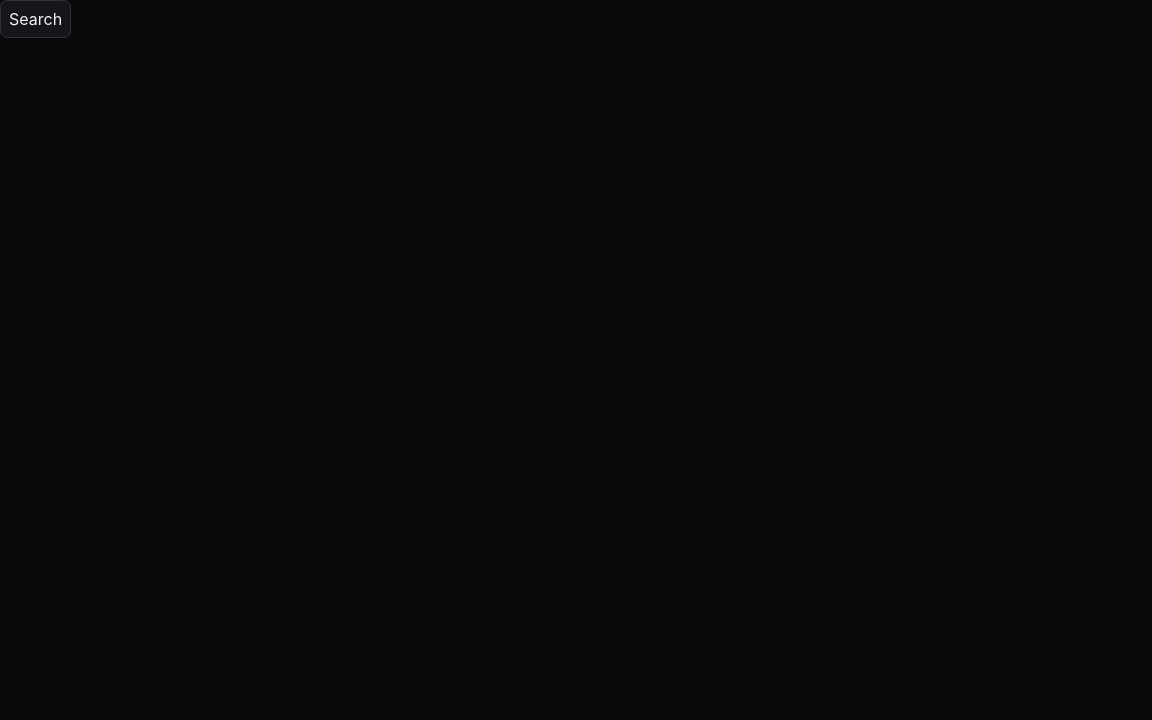
opens with Command-K and executes the keyboard-selected local result
Press k
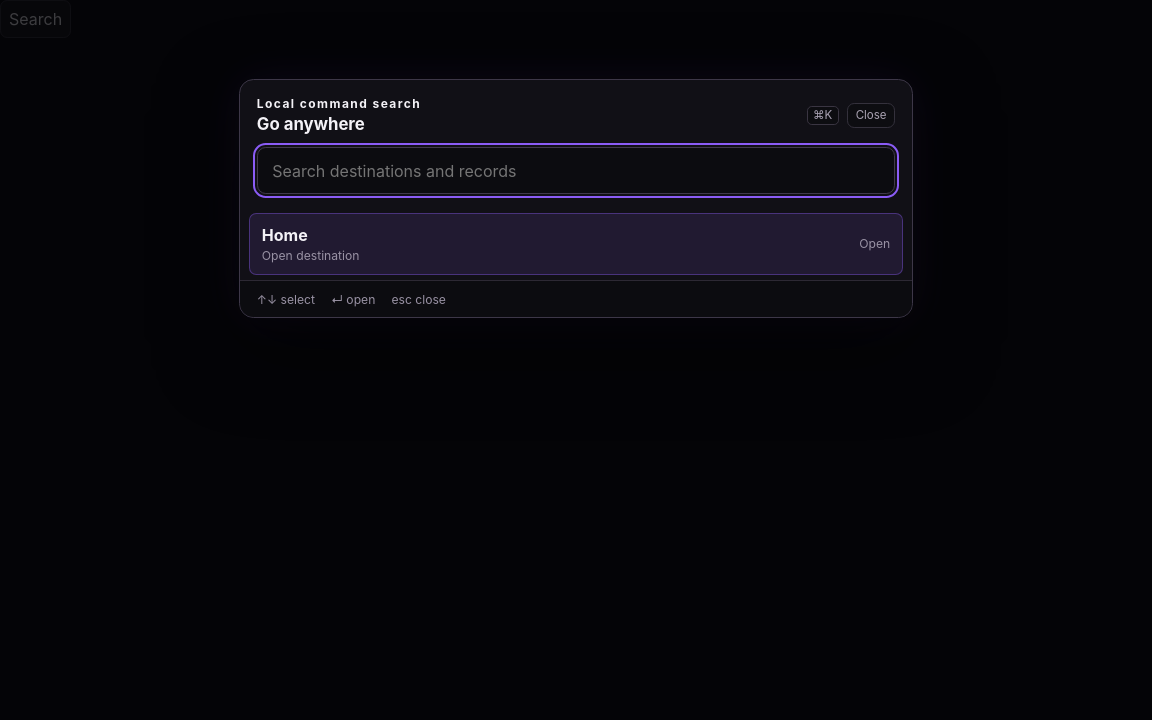
In the dropdown named "Search commands and records": (576, 171) [257,147,895,194], type "synthetic"
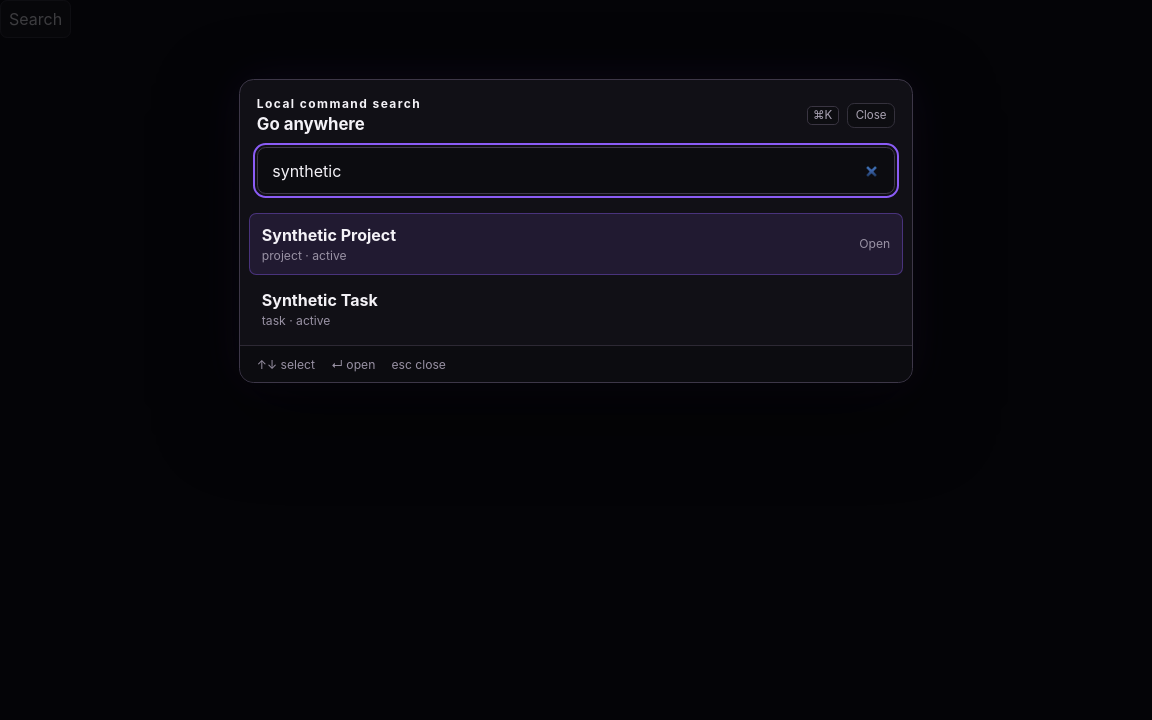
Press ArrowDown in the dropdown named "Search commands and records", box [257,147,895,194]
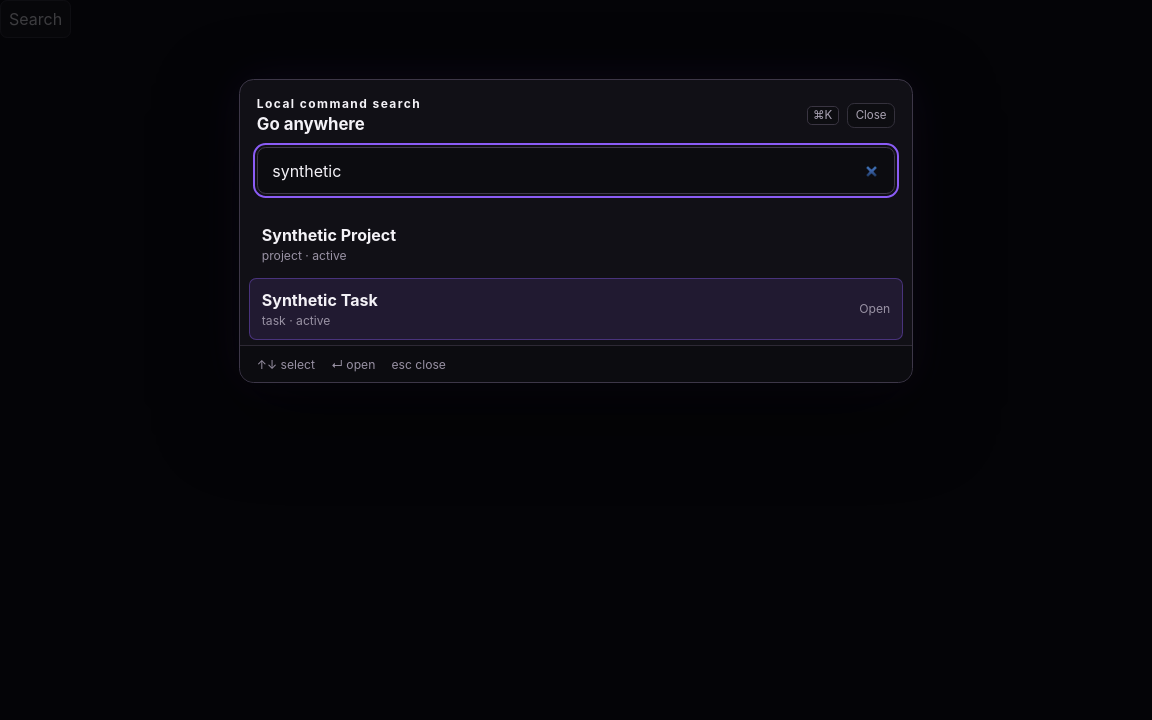
Now the option "Synthetic Task task · active Open" is selected, box [249,278,903,340]
Press Enter in the dropdown named "Search commands and records", box [257,147,895,194]
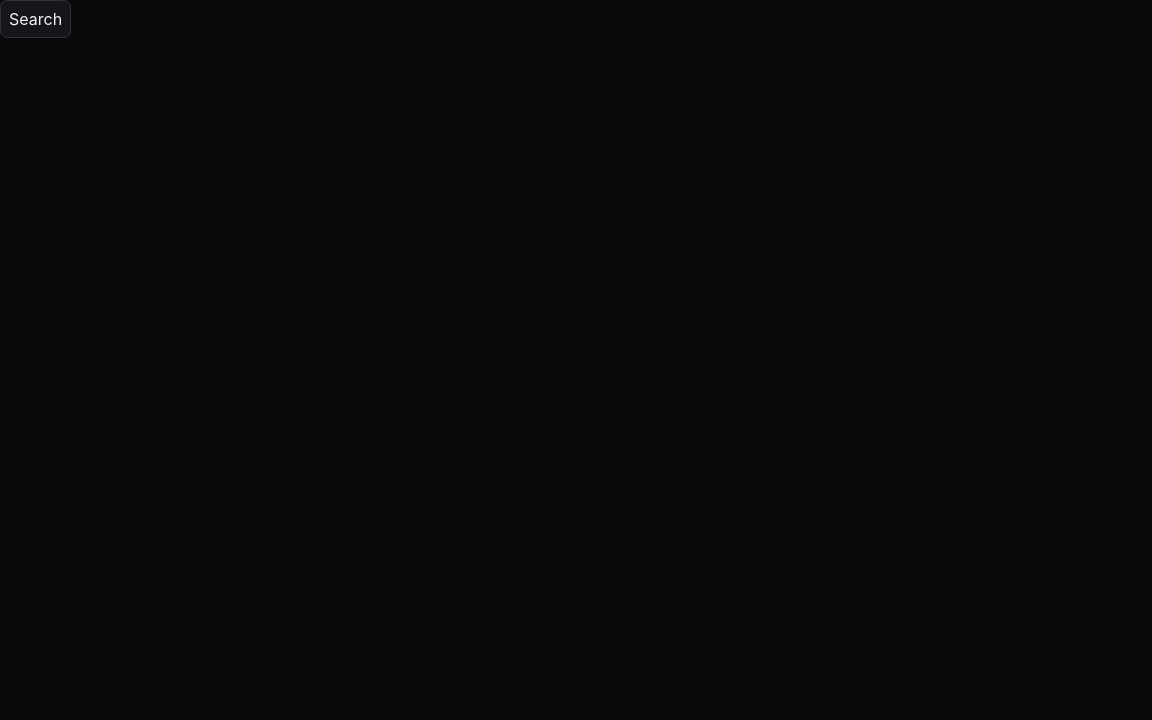
Now the dialog is gone
